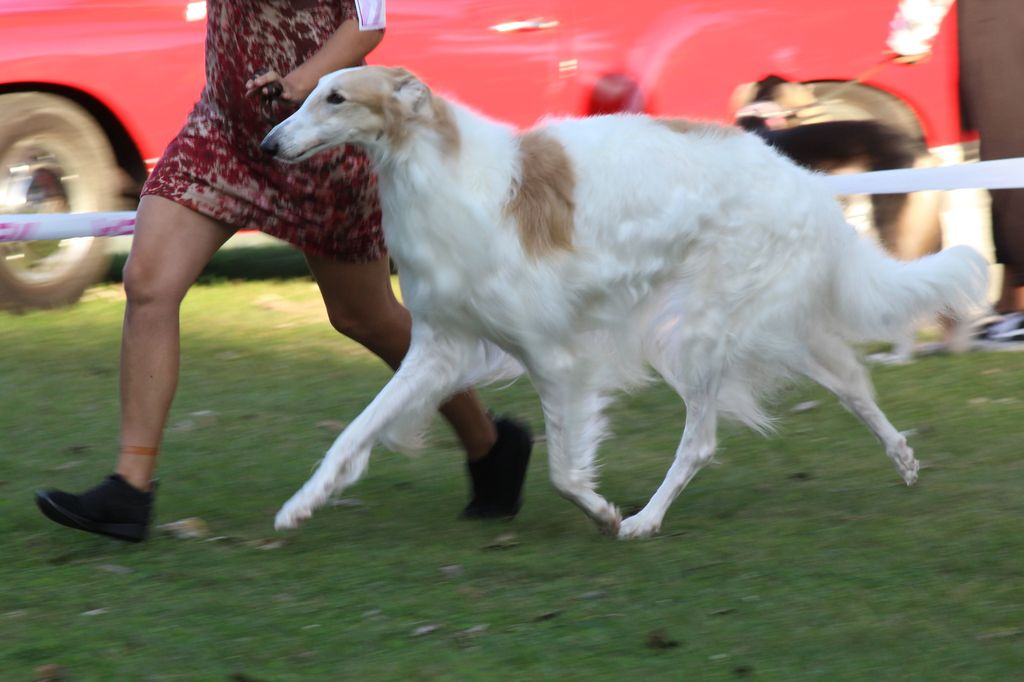borzoi: (247, 67, 997, 539)
